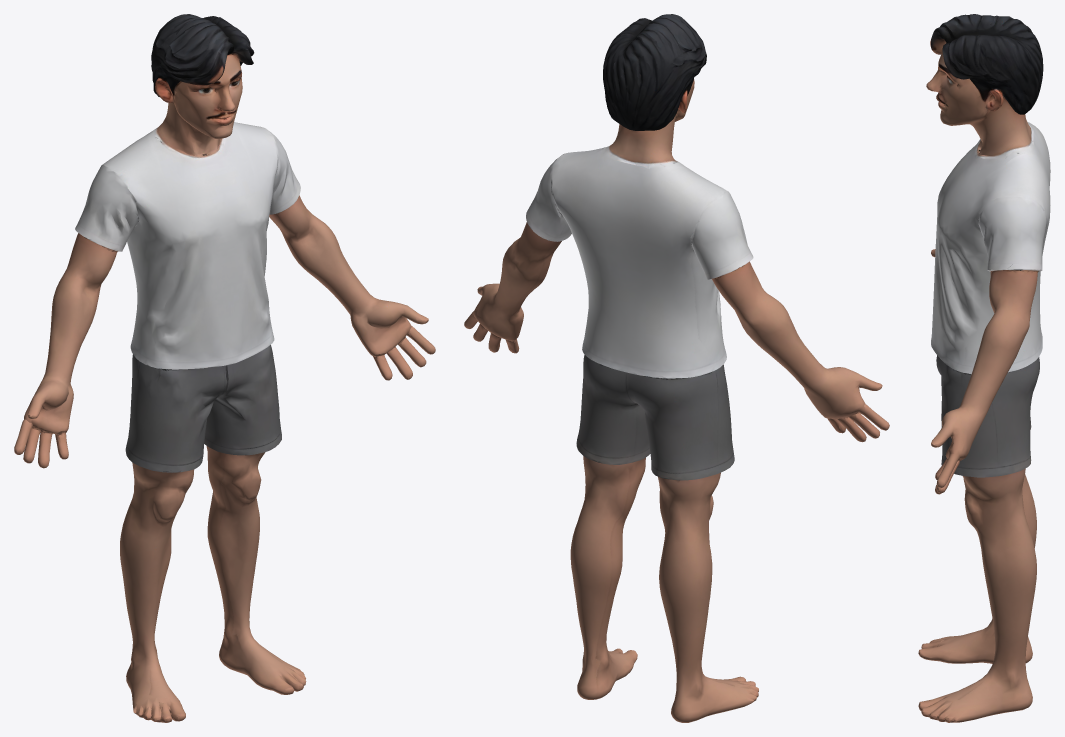
Rendered from karakter-wildan-byNesya.glb.
3 renders of one model, left to right at view 1: azimuth 30°, elevation 25°; view 2: azimuth 150°, elevation 25°; view 3: azimuth 270°, elevation 25°, orthographic.
Parts seen in each view (by area): view 1: Mesh; view 2: Mesh; view 3: Mesh.
Part boxes in pixels (x1,y1,x2,y2): Mesh: (14, 14, 435, 722); Mesh: (464, 14, 889, 722); Mesh: (918, 14, 1050, 722).
Size of the model in its own units: 1.13 by 1.72 by 0.308.
1 material, 1 textured.
